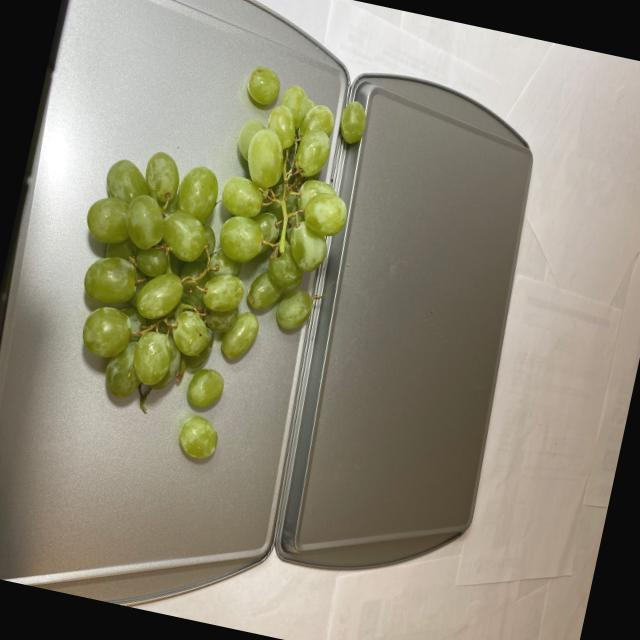grapes: (51, 29, 371, 478)
